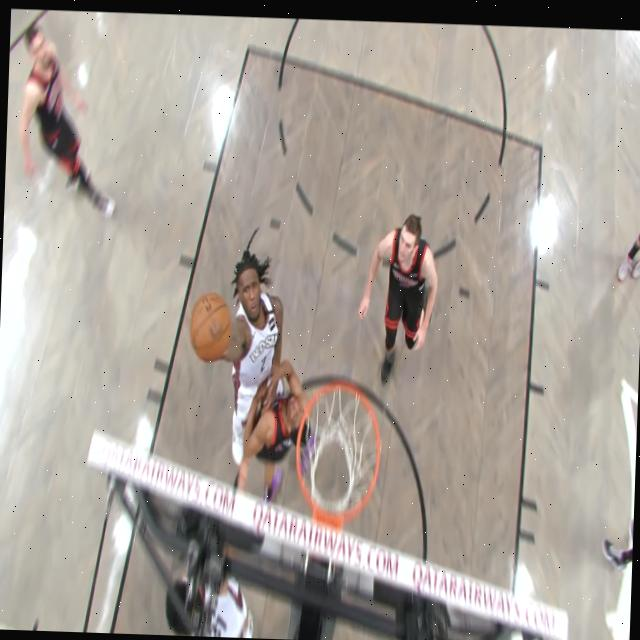foul: (164, 222, 310, 498)
